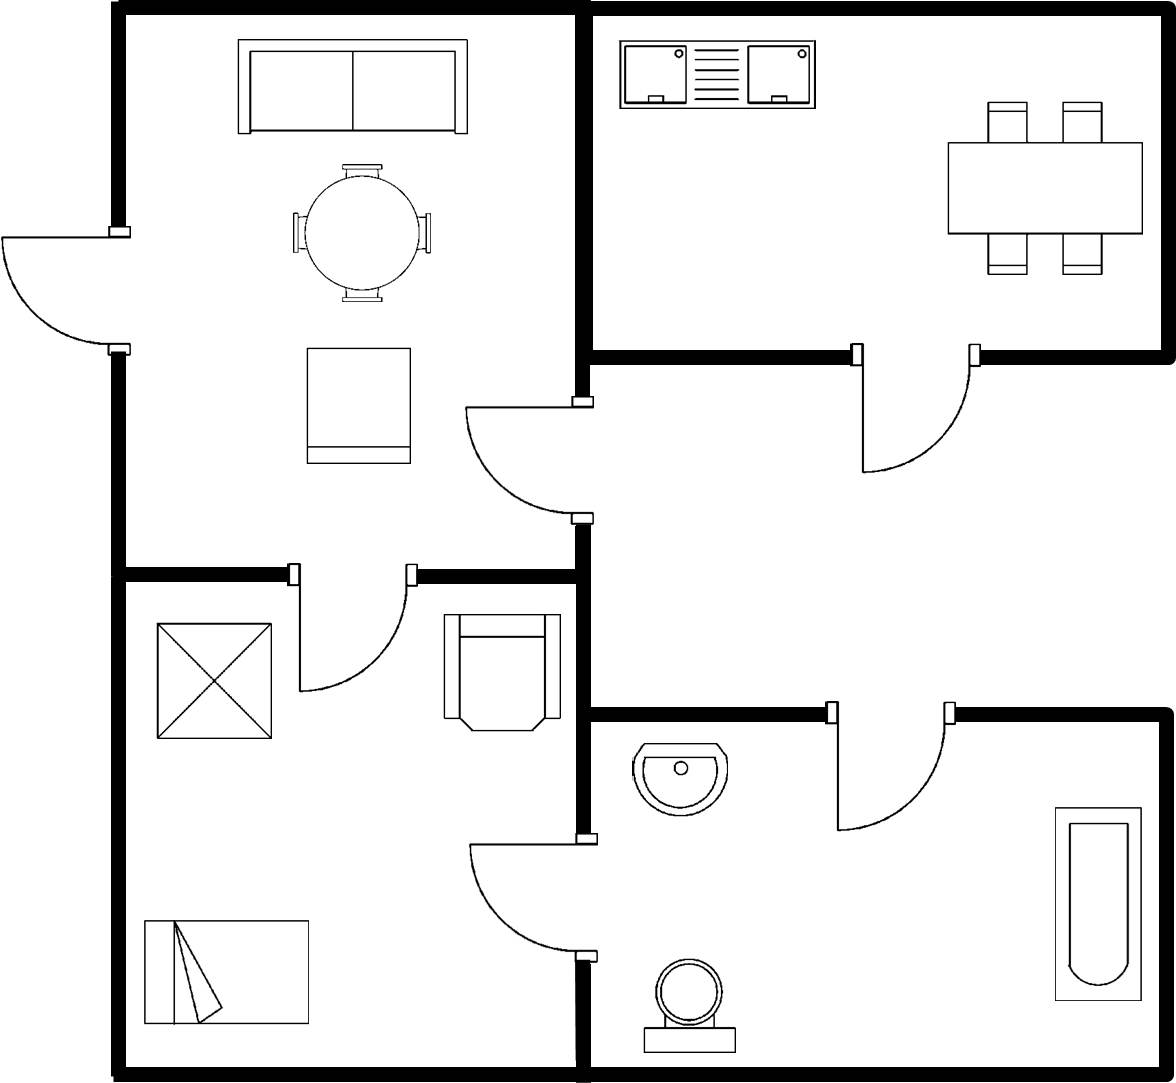armchair: (436, 607, 569, 739)
bed: (138, 913, 317, 1032)
coffee_table: (149, 616, 280, 746)
dining_table: (940, 92, 1149, 281)
large_sink: (633, 950, 747, 1061)
large_sofa: (227, 30, 478, 145)
round_table: (285, 158, 441, 310)
small_sink: (622, 737, 735, 822)
small_sofa: (299, 340, 417, 474)
tub: (1047, 798, 1150, 1013)
twin_sink: (611, 34, 823, 117)
